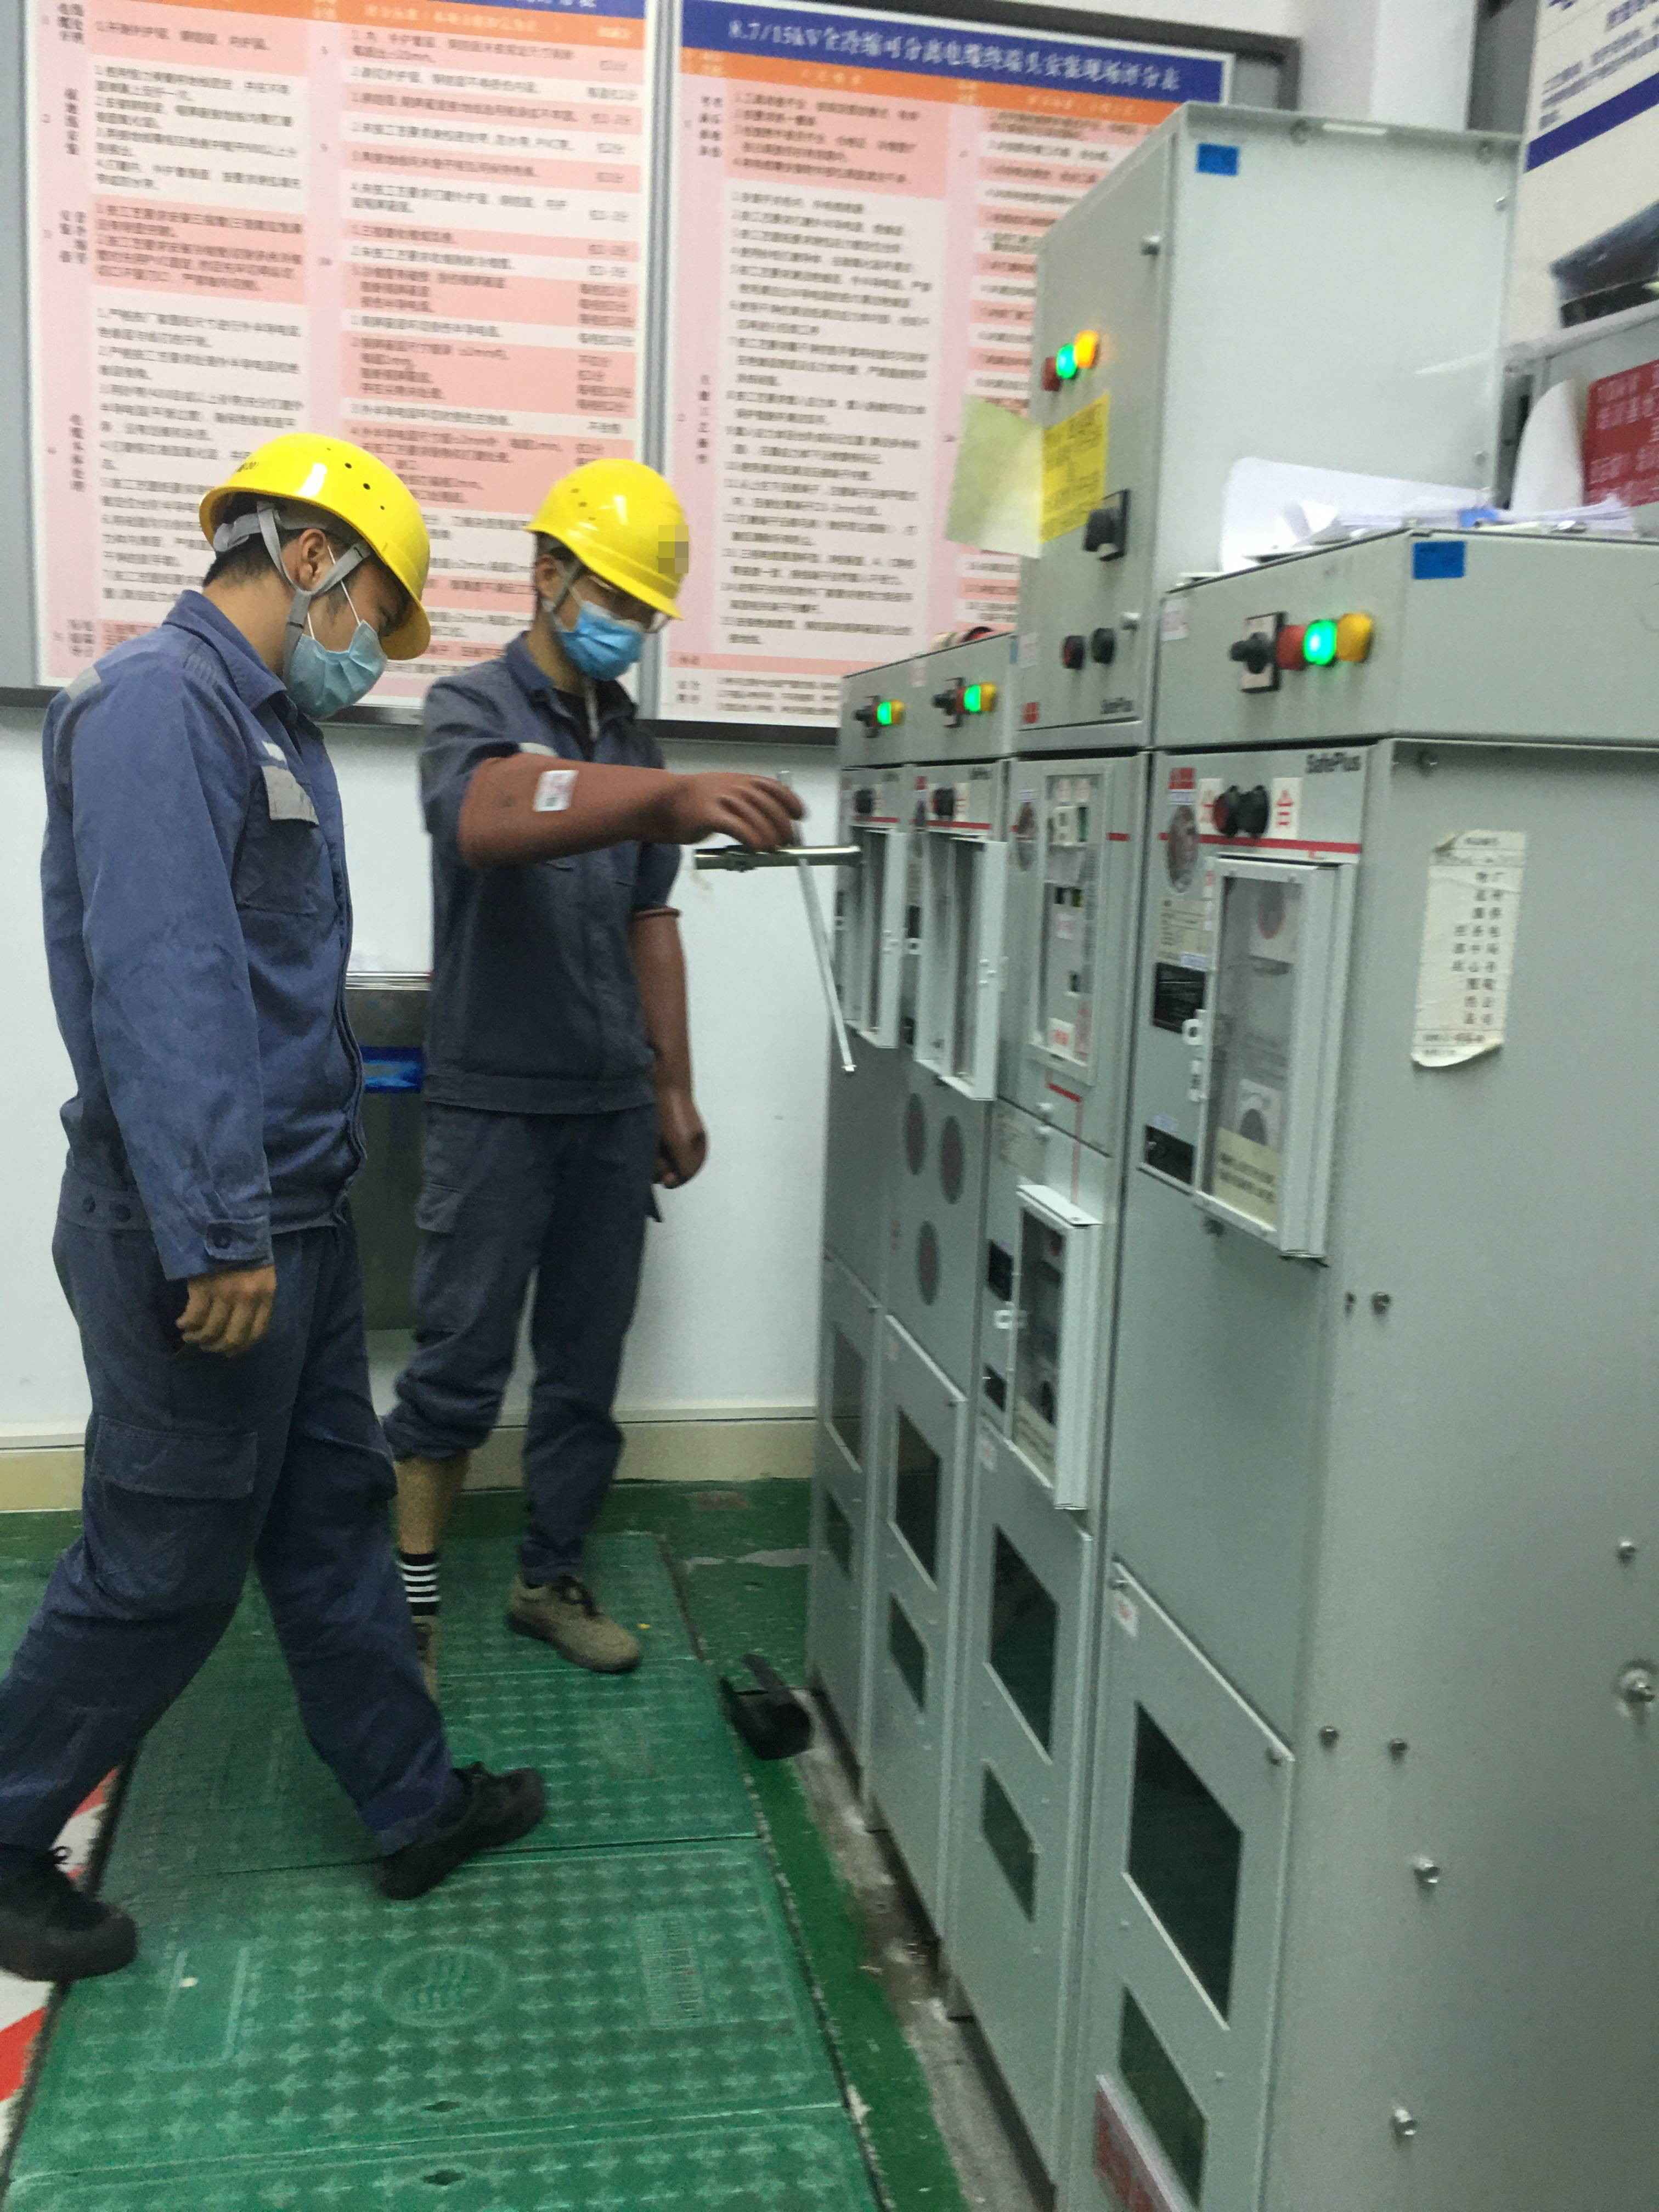downsuit: (2, 1249, 460, 1871), (392, 1139, 657, 1585)
upsuit: (56, 627, 359, 1224), (423, 650, 692, 1113)
wrongbottom: (382, 1392, 502, 1575)
